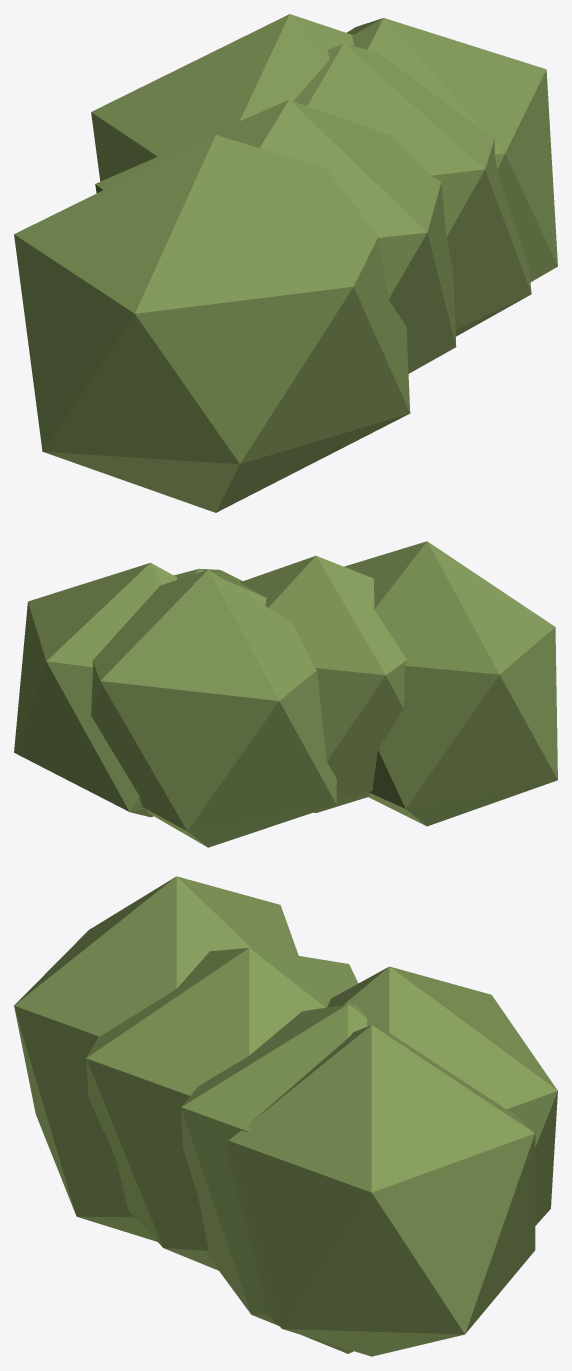
File: SM_Shrub.fbx
The picture shows the model from 3 angles, top to bottom: view 1: azimuth 30°, elevation 25°; view 2: azimuth 150°, elevation 25°; view 3: azimuth 270°, elevation 25°; orthographic projection. The views are drawn at different scales.
Visible parts, largest first — view 1: SM_Shrub; view 2: SM_Shrub; view 3: SM_Shrub.
Boxes of the visible parts, x1=… form: SM_Shrub: x1=14, y1=14, x2=557, y2=512; SM_Shrub: x1=14, y1=541, x2=557, y2=847; SM_Shrub: x1=14, y1=876, x2=557, y2=1356.
Bounding box in the file's own units: 2.09 × 1.66 × 1.26.
